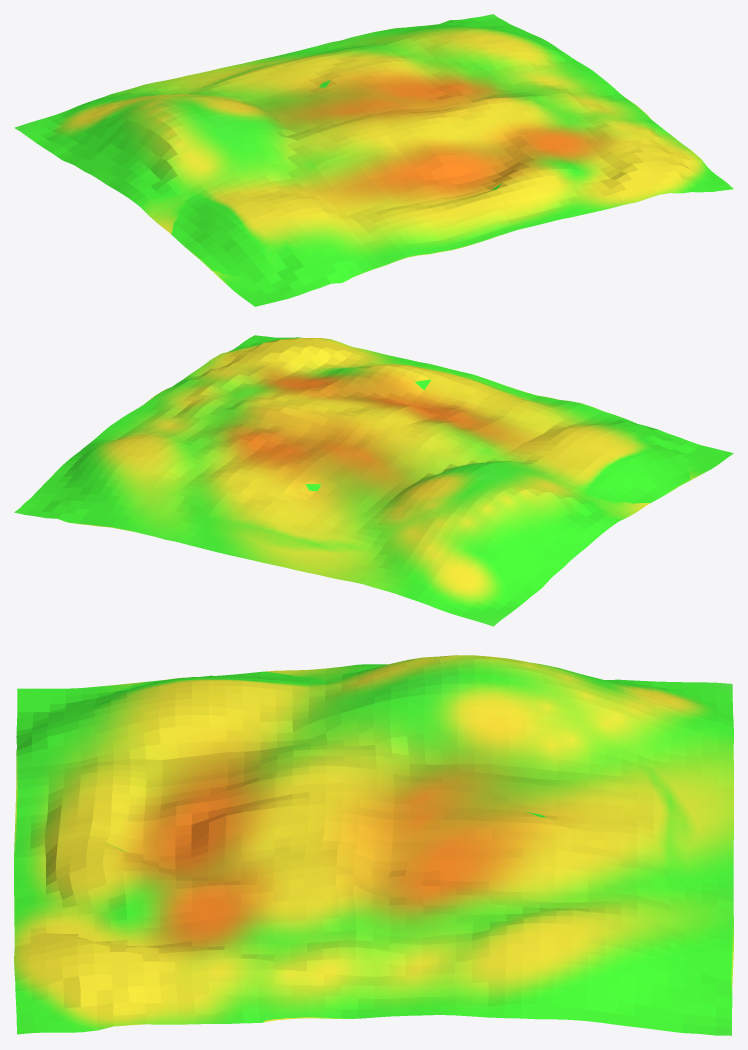
Rendered from terrain.glb.
The picture shows the model from 3 angles, top to bottom: view 1: azimuth 30°, elevation 25°; view 2: azimuth 150°, elevation 25°; view 3: azimuth 270°, elevation 25°; orthographic projection. The views are drawn at different scales.
Parts seen in each view (by area): view 1: Plane; view 2: Plane; view 3: Plane.
Boxes of the visible parts, left/top/right/bottom form: Plane: left=14, top=14, right=733, bottom=306; Plane: left=14, top=335, right=733, bottom=626; Plane: left=14, top=655, right=733, bottom=1035.
Size of the model in its own units: 23.13 by 2.63 by 20.18.
1 material, 1 textured.
